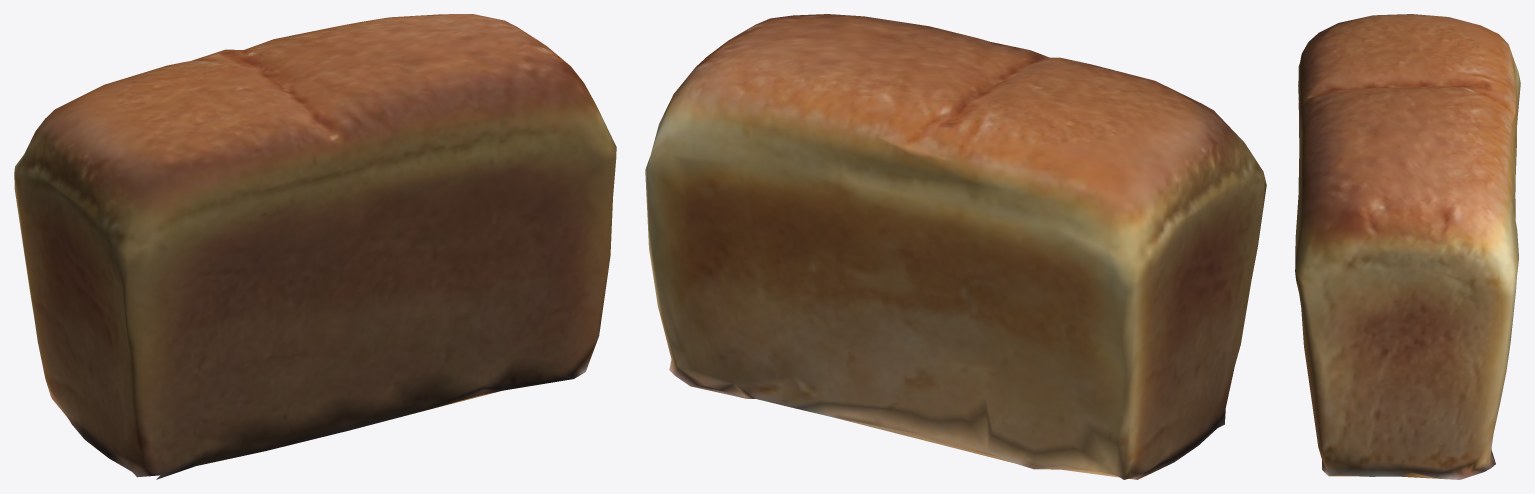
Rendered from bread.glb.
The picture shows the model from 3 angles, left to right: view 1: azimuth 30°, elevation 25°; view 2: azimuth 150°, elevation 25°; view 3: azimuth 270°, elevation 25°; orthographic projection. The views are drawn at different scales.
Visible parts, largest first — view 1: Bread; view 2: Bread; view 3: Bread.
Part boxes in pixels (left/top/right/bottom): Bread: left=14, top=14, right=616, bottom=479; Bread: left=645, top=14, right=1266, bottom=479; Bread: left=1295, top=14, right=1520, bottom=479.
Size of the model in its own units: 2.5 by 1.59 by 1.13.
Materials: 1 (1 with a texture image).
